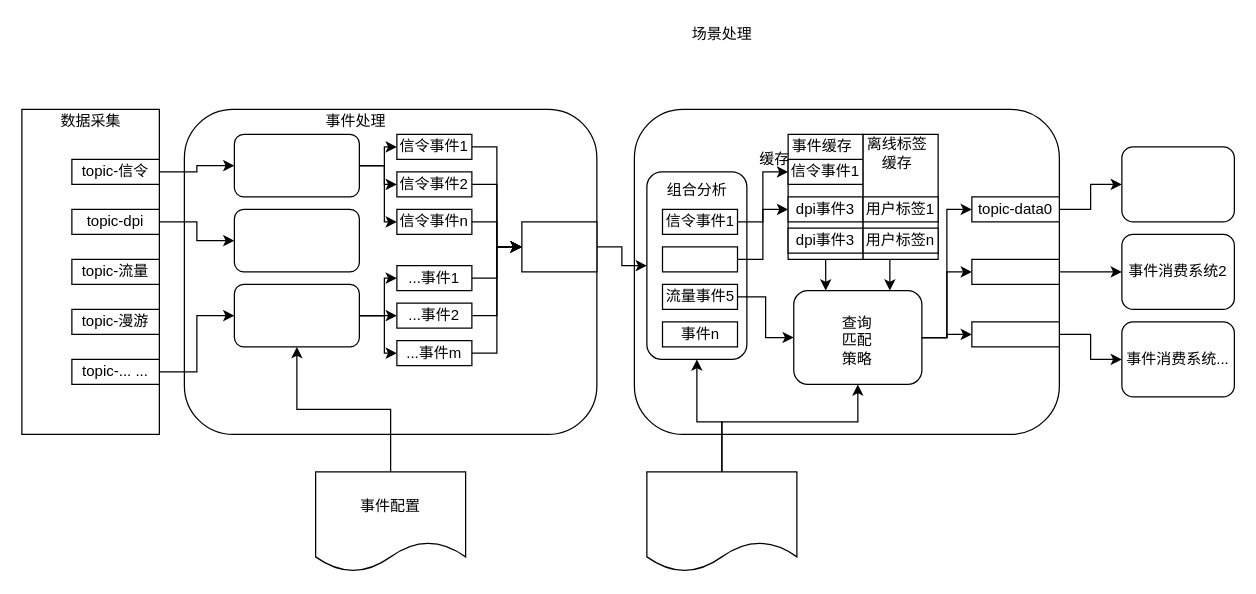
This 1256x594 diagram has some shape labels left out. Here are the shapes that lost their labels. From the top down, the centre of each, then its label:
point 296,165: 信令事件处理
point 1177,184: 事件消费系统1
point 296,240: dpi事件处理
point 559,246: topic-router-event
point 699,259: dpi事件2
point 1015,271: topic-data1
point 296,315: ... 事件处理
point 1015,334: topic-data...
point 721,521: 场景配置
